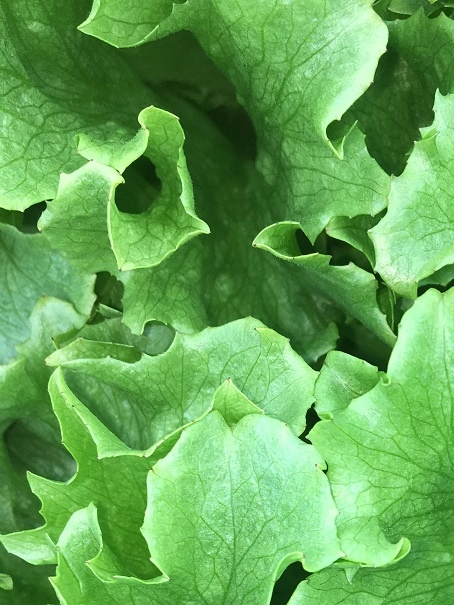tipburn: (246, 238, 264, 252), (34, 225, 49, 240), (113, 261, 129, 275), (41, 355, 56, 369), (55, 167, 69, 182), (146, 465, 161, 478), (251, 322, 266, 335), (365, 75, 378, 89), (37, 290, 51, 303), (139, 122, 152, 136), (223, 373, 237, 385), (311, 460, 324, 472), (85, 154, 98, 166)
